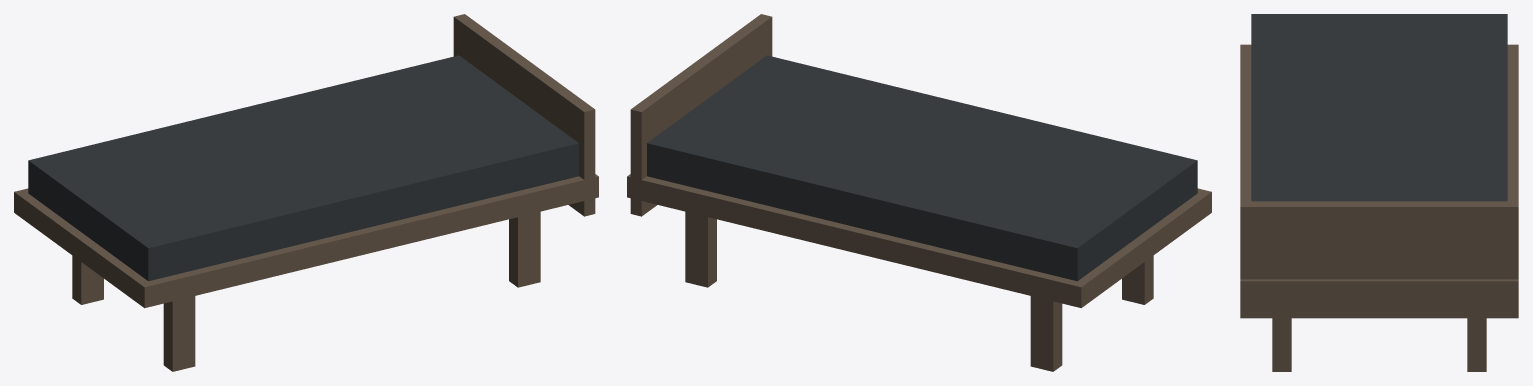
The model's file is P009-blockout-v1.glb.
3 views of the same model, side by side, from view 1: azimuth 30°, elevation 25°; view 2: azimuth 150°, elevation 25°; view 3: azimuth 270°, elevation 25° (orthographic). The views are drawn at different scales.
Visible parts, largest first — view 1: 焦黑床墊, 床架, 床頭, 支腳 (×3); view 2: 焦黑床墊, 床架, 床頭, 支腳 (×3); view 3: 焦黑床墊, 床頭, 床架, 支腳 (×2).
Boxes of the visible parts, left/top/right/bottom form: 焦黑床墊: left=28, top=55, right=578, bottom=281; 床架: left=14, top=174, right=598, bottom=308; 床頭: left=453, top=14, right=595, bottom=216; 支腳 (×3): left=72, top=211, right=540, bottom=371; 焦黑床墊: left=647, top=55, right=1197, bottom=281; 床架: left=627, top=174, right=1211, bottom=308; 床頭: left=630, top=14, right=772, bottom=216; 支腳 (×3): left=685, top=211, right=1153, bottom=371; 焦黑床墊: left=1251, top=14, right=1507, bottom=201; 床頭: left=1240, top=201, right=1518, bottom=318; 床架: left=1240, top=44, right=1518, bottom=303; 支腳 (×2): left=1272, top=318, right=1486, bottom=371.
Bounding box in the file's own units: 2.05 × 0.75 × 1.02.
